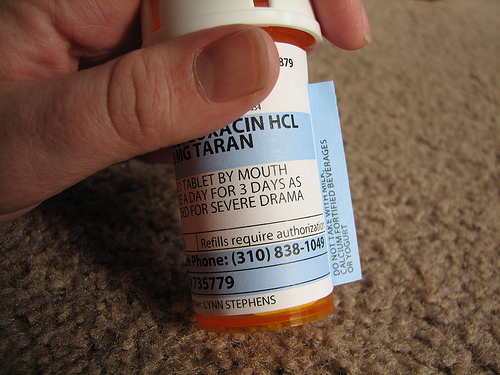pill bottle: (157, 3, 337, 327)
